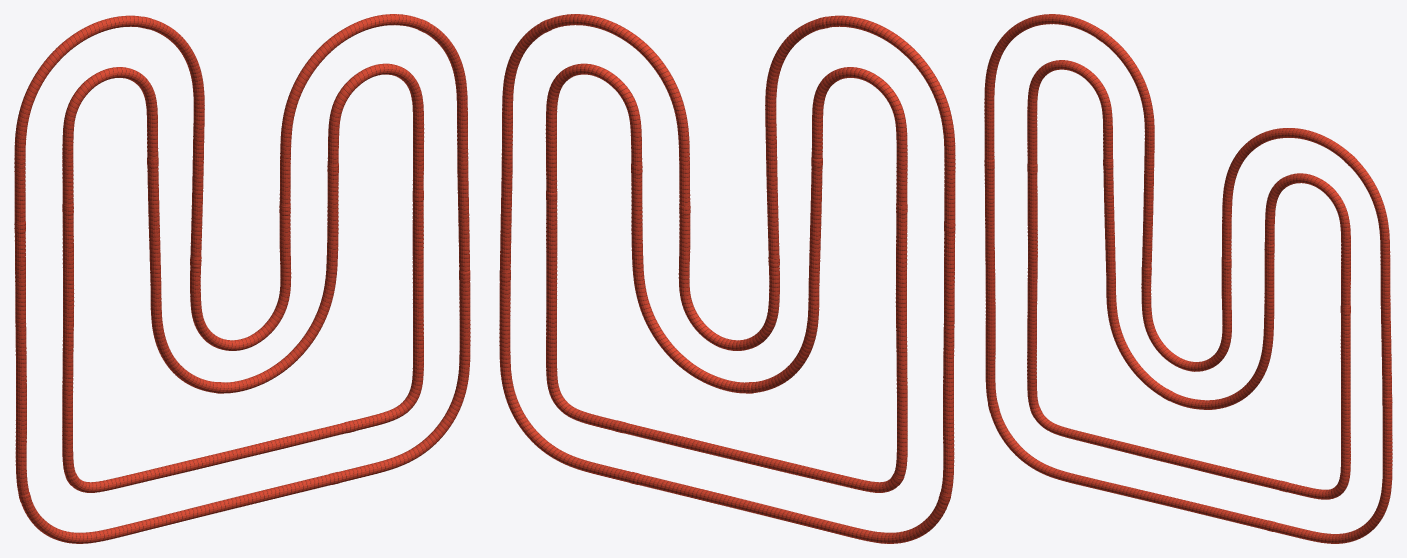
Rendered from ducts.obj.
The picture shows the model from 3 angles, left to right: view 1: azimuth 30°, elevation 25°; view 2: azimuth 150°, elevation 25°; view 3: azimuth 330°, elevation 25°; orthographic projection. The views are drawn at different scales.
Size of the model in its own units: 13.29 by 14.53 by 0.2995.
1 material, 1 textured.
